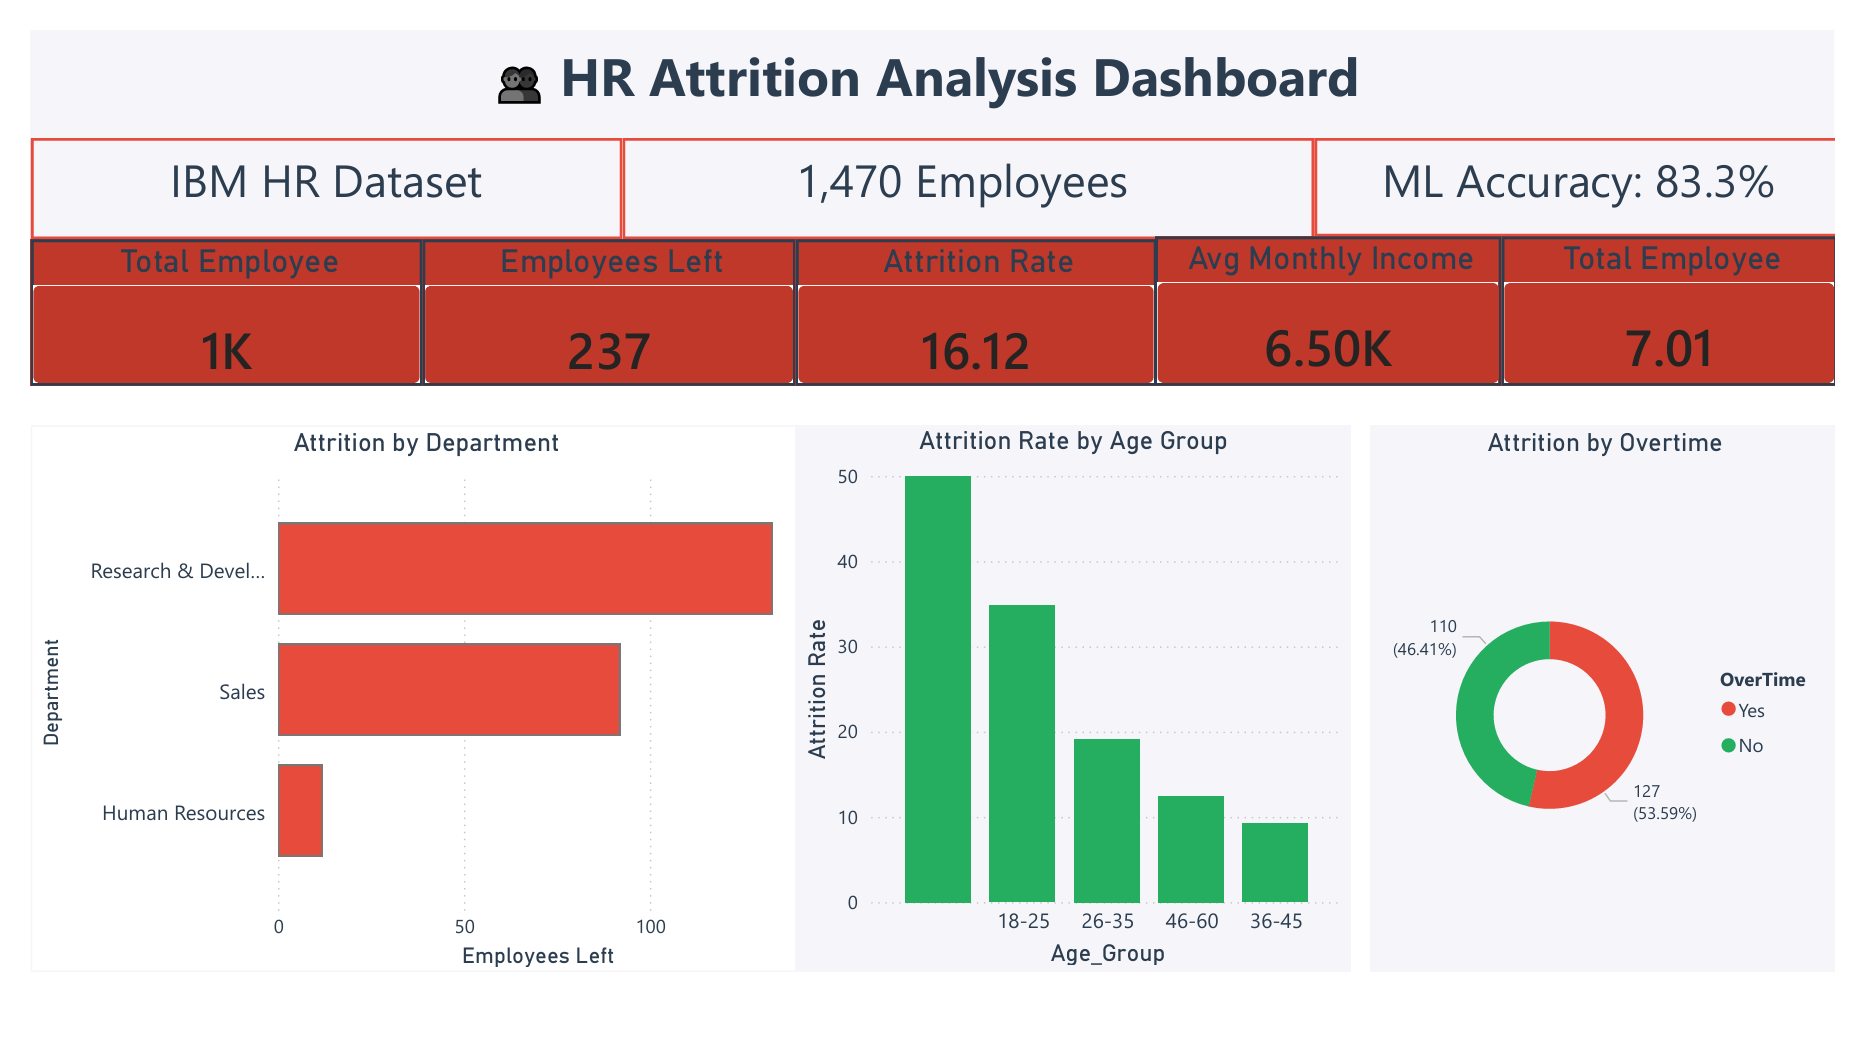

The dashboard page shown, as its layout file describes it:
{"tool":"powerbi","page":{"name":"Executive Overview","canvas":[1280,720],"ordinal":0},"visuals":[{"type":"textbox","box":[0,0,1280,75.7],"z":0},{"type":"textbox","box":[0,75.7,407.1,70.1],"z":1000},{"type":"textbox","box":[0,75.7,420.4,72],"z":2000},{"type":"textbox","box":[420.4,75.7,490.4,72],"z":3000},{"type":"textbox","box":[0,252,420,150],"z":4000},{"type":"textbox","box":[910.8,75.7,374.9,70.1],"z":5000},{"type":"cardVisual","title":"Total Employee","fields":{"Data":["hr_clean.Total Employees"]},"box":[0,148,278,104],"z":6000},{"type":"cardVisual","title":" Employees Left","fields":{"Data":["hr_clean.Employees Left"]},"box":[278.3,147.7,265.1,104.1],"z":7000},{"type":"cardVisual","title":"Attrition Rate","fields":{"Data":["hr_clean.Attrition Rate"]},"box":[543.4,147.7,255.6,104.1],"z":8000},{"type":"cardVisual","title":"Avg Monthly Income","fields":{"Data":["hr_clean.Avg Monthly Income"]},"box":[798,146,246,106],"z":9000},{"type":"cardVisual","title":"Total Employee","fields":{"Data":["hr_clean.Avg Tenure"]},"box":[1044,146,238,106],"z":10000},{"type":"clusteredBarChart","title":"Attrition by Department","fields":{"Y":["hr_clean.Employees Left"],"Category":["hr_clean.Department"]},"box":[0,280.2,560.5,388.2],"z":11000},{"type":"columnChart","title":"Attrition Rate by Age Group","fields":{"Category":["hr_clean.Age_Group"],"Y":["hr_clean.Attrition Rate"]},"box":[543.4,280.2,393.8,388.2],"z":12000},{"type":"donutChart","title":"Attrition by Overtime","fields":{"Category":["hr_clean.OverTime"],"Y":["hr_clean.Employees Left"]},"box":[950.5,280.2,331.4,388.2],"z":13000}]}

Visuals, with their boxes in screenshot pixels (x1, y1, x2, y2), scaled from the page's 1280x720 canvas onto the 1869x1062 screenshot:
textbox: (x1=0, y1=0, x2=1868, y2=112)
textbox: (x1=0, y1=112, x2=594, y2=215)
textbox: (x1=0, y1=112, x2=614, y2=218)
textbox: (x1=614, y1=112, x2=1330, y2=218)
textbox: (x1=0, y1=372, x2=613, y2=593)
textbox: (x1=1330, y1=112, x2=1868, y2=215)
"Total Employee" cardVisual: (x1=0, y1=218, x2=406, y2=372)
" Employees Left" cardVisual: (x1=406, y1=218, x2=793, y2=371)
"Attrition Rate" cardVisual: (x1=793, y1=218, x2=1167, y2=371)
"Avg Monthly Income" cardVisual: (x1=1165, y1=215, x2=1524, y2=372)
"Total Employee" cardVisual: (x1=1524, y1=215, x2=1868, y2=372)
"Attrition by Department" clusteredBarChart: (x1=0, y1=413, x2=818, y2=986)
"Attrition Rate by Age Group" columnChart: (x1=793, y1=413, x2=1368, y2=986)
"Attrition by Overtime" donutChart: (x1=1388, y1=413, x2=1868, y2=986)
